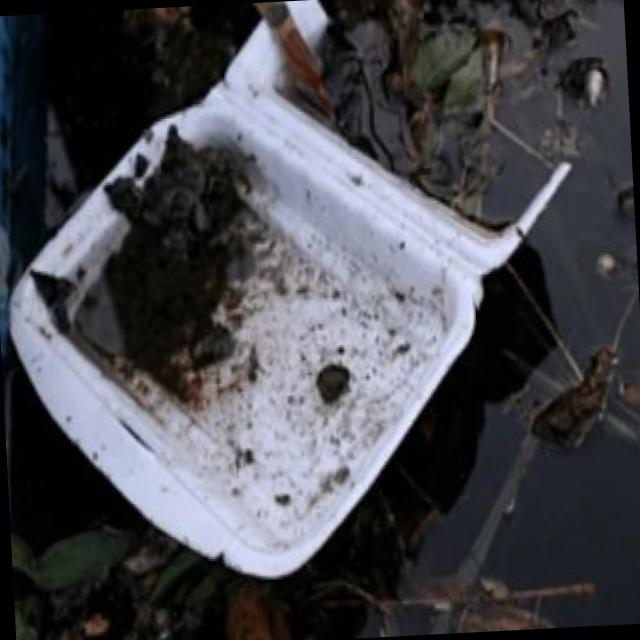electronic: (0, 0, 594, 593)
